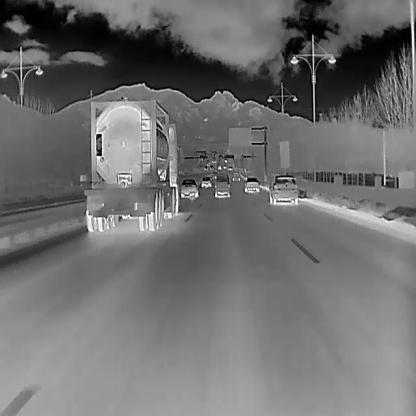car: (268, 174, 298, 205), (214, 172, 230, 198), (180, 178, 198, 199), (243, 176, 259, 192), (199, 176, 212, 187), (232, 172, 240, 180), (228, 164, 233, 171), (209, 164, 214, 170), (204, 164, 208, 170), (217, 164, 221, 170), (224, 158, 228, 162), (223, 164, 226, 168)
truck: (83, 96, 183, 231)
